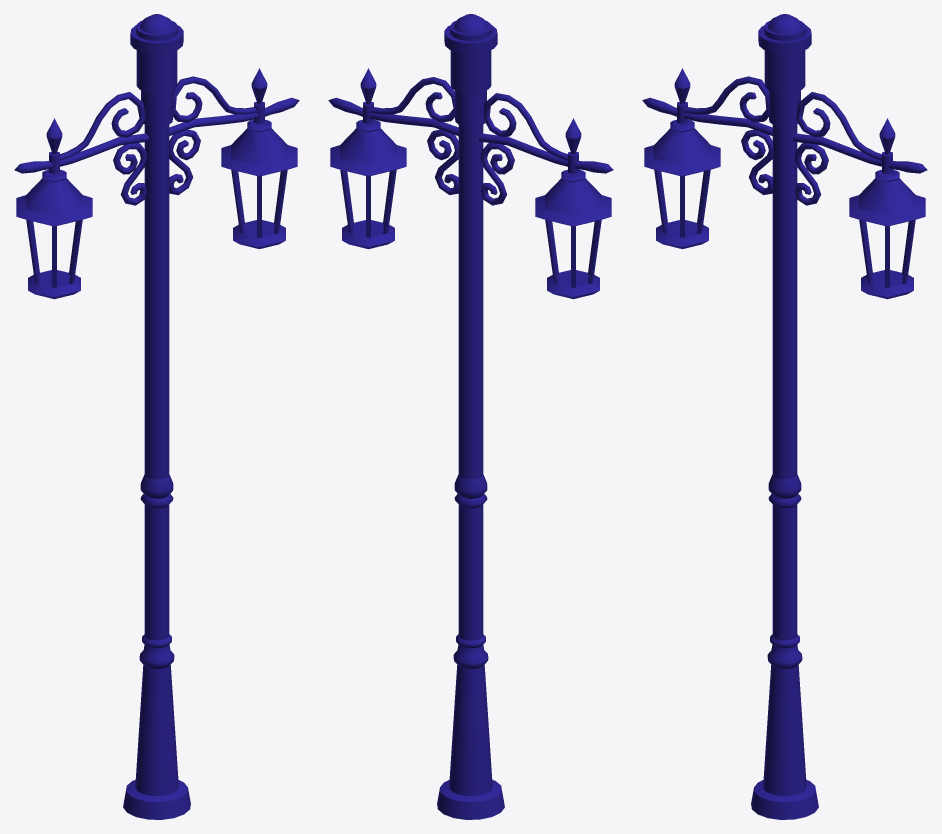
File: StreetLamp.fbx
The picture shows the model from 3 angles, left to right: view 1: azimuth 30°, elevation 25°; view 2: azimuth 150°, elevation 25°; view 3: azimuth 330°, elevation 25°; orthographic projection.
Visible parts, largest first — view 1: StreetLamp; view 2: StreetLamp; view 3: StreetLamp.
Boxes of the visible parts, <box> form: StreetLamp: <box>14,14,299,819</box>; StreetLamp: <box>328,14,613,819</box>; StreetLamp: <box>642,14,927,819</box>.
Bounding box in the file's own units: 150 × 397 × 34.94.
